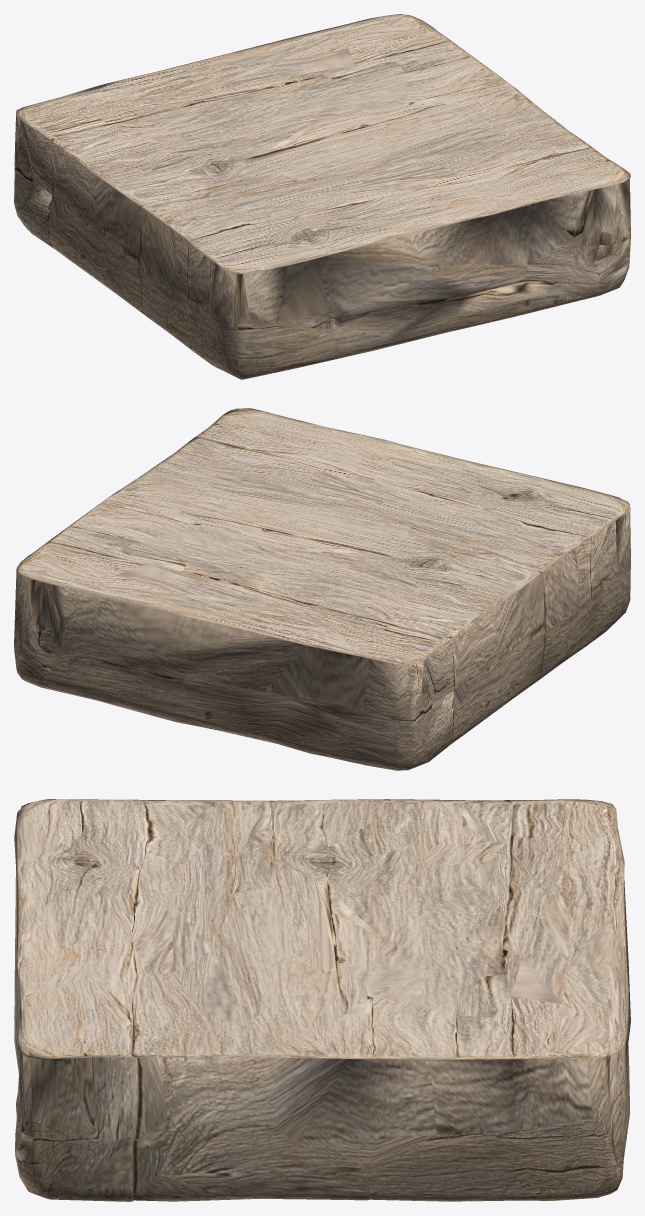
File: support-v1.glb
The picture shows the model from 3 angles, top to bottom: view 1: azimuth 30°, elevation 25°; view 2: azimuth 150°, elevation 25°; view 3: azimuth 270°, elevation 25°; orthographic projection. The views are drawn at different scales.
Visible parts, largest first — view 1: tripo_node_549b16c7-002a-4f07-a2d8-649225c15373; view 2: tripo_node_549b16c7-002a-4f07-a2d8-649225c15373; view 3: tripo_node_549b16c7-002a-4f07-a2d8-649225c15373.
Part boxes in pixels (x1=…): tripo_node_549b16c7-002a-4f07-a2d8-649225c15373: x1=14, y1=14, x2=630, y2=379; tripo_node_549b16c7-002a-4f07-a2d8-649225c15373: x1=14, y1=408, x2=630, y2=770; tripo_node_549b16c7-002a-4f07-a2d8-649225c15373: x1=14, y1=799, x2=630, y2=1201.
Size of the model in its own units: 0.58 by 0.16 by 0.5768.
1 material, 1 textured.
